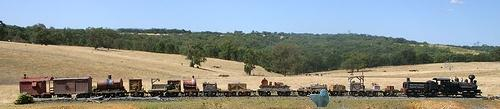tampered: (308, 90, 330, 107)
